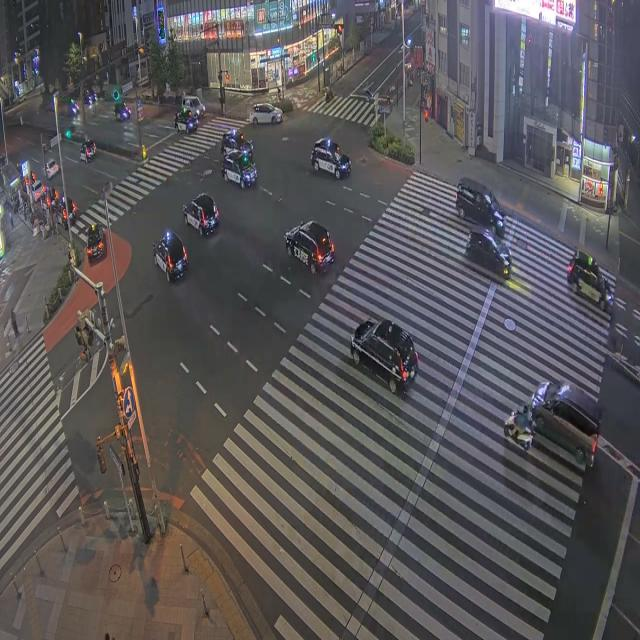car: (532, 382, 601, 466), (351, 320, 418, 393), (456, 177, 505, 238), (567, 250, 613, 312), (285, 221, 334, 274), (465, 230, 511, 279), (153, 231, 188, 281), (311, 138, 350, 179), (183, 193, 218, 236), (221, 152, 257, 188), (221, 129, 253, 156), (52, 196, 78, 225), (86, 224, 105, 262), (249, 104, 282, 124), (182, 95, 206, 118), (174, 111, 197, 133), (80, 140, 96, 162), (114, 103, 130, 121), (32, 181, 45, 201), (45, 160, 59, 178), (83, 89, 97, 105)
motorcycle: (504, 412, 533, 450), (326, 88, 333, 102)
